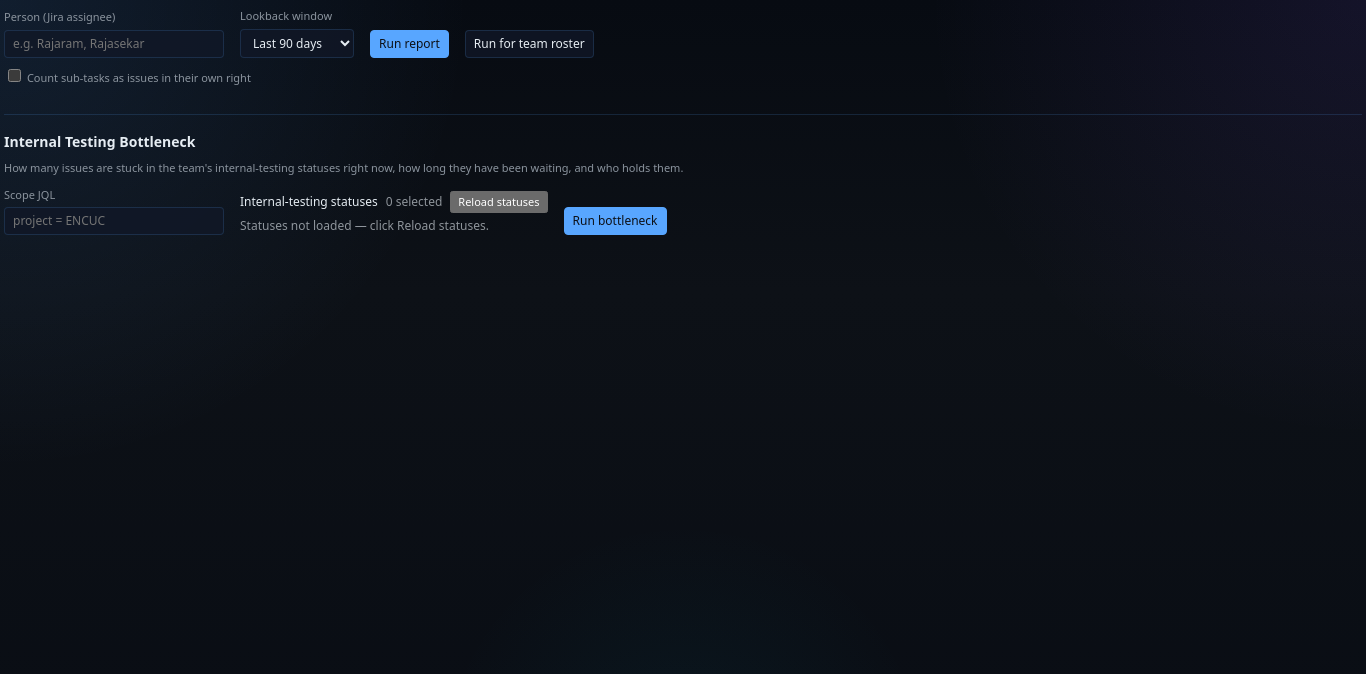
Test: PersonalFlowTab › credits an issue when the changelog stores a user KEY that differs from the username (Jira Server)
In the field labelled "Person (Jira assignee)": (114, 44) [4,30,224,58], type "Doe, John (CTR)"
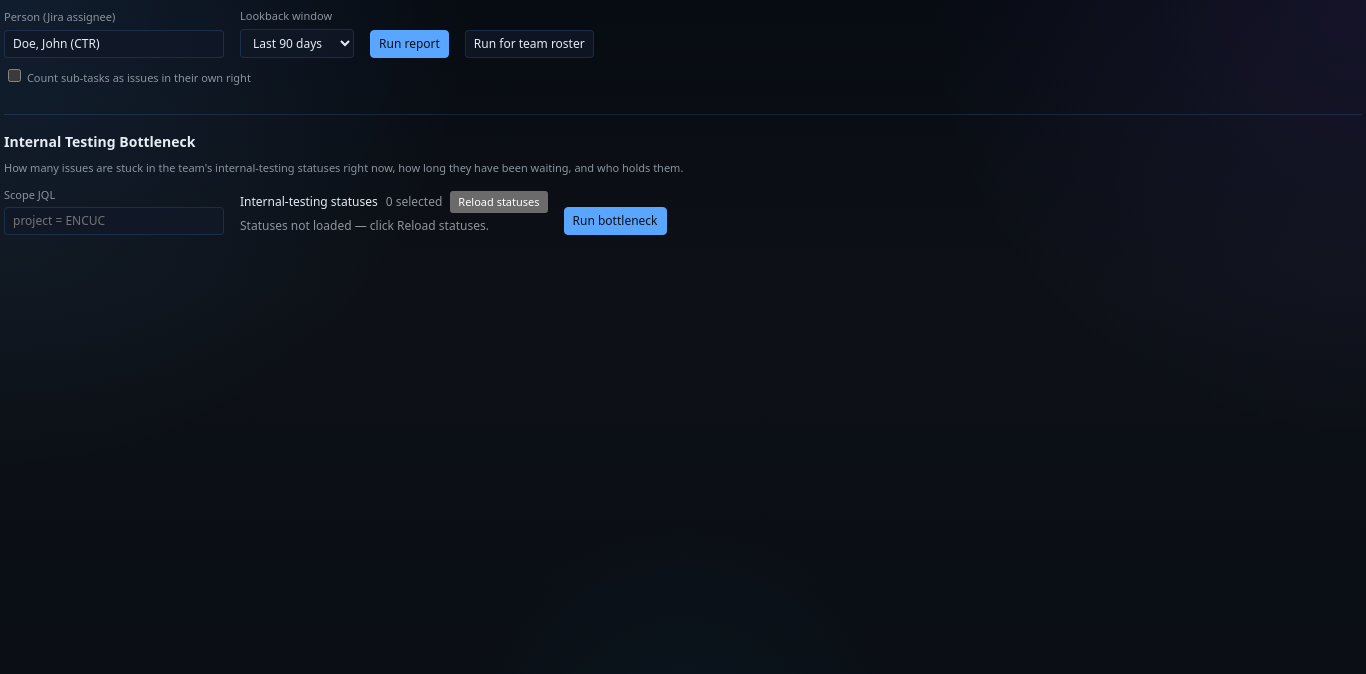
Click the button "Run report": (409, 44) [370,30,449,58]
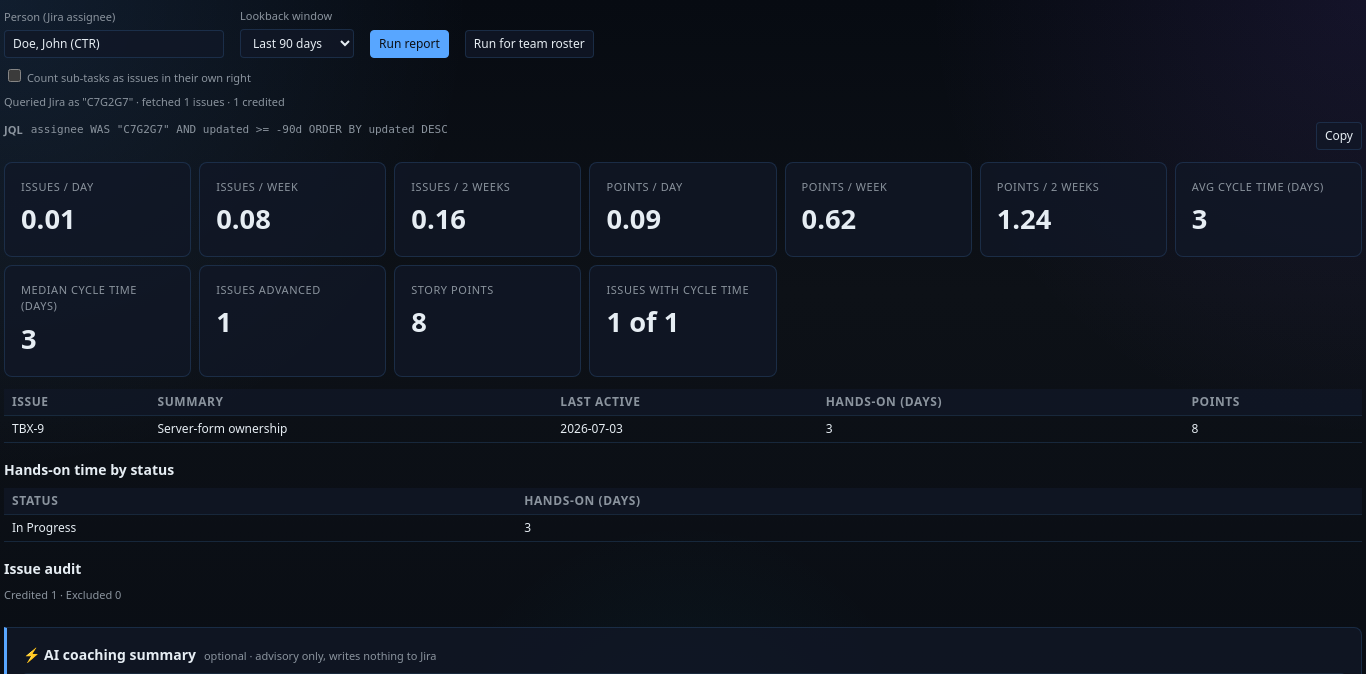
expect the text "TBX-9" is shown: met, box [4,415,150,442]
